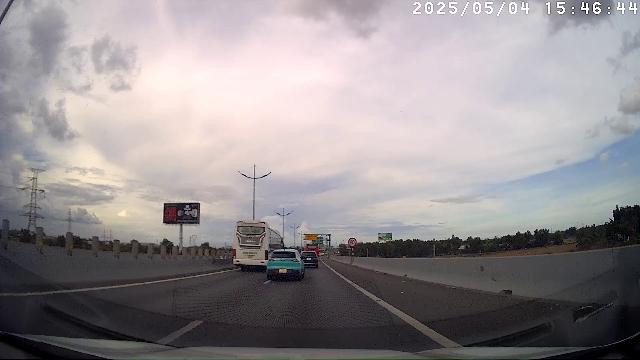127-toc-do-toi-da-60: (348, 238, 358, 246)
